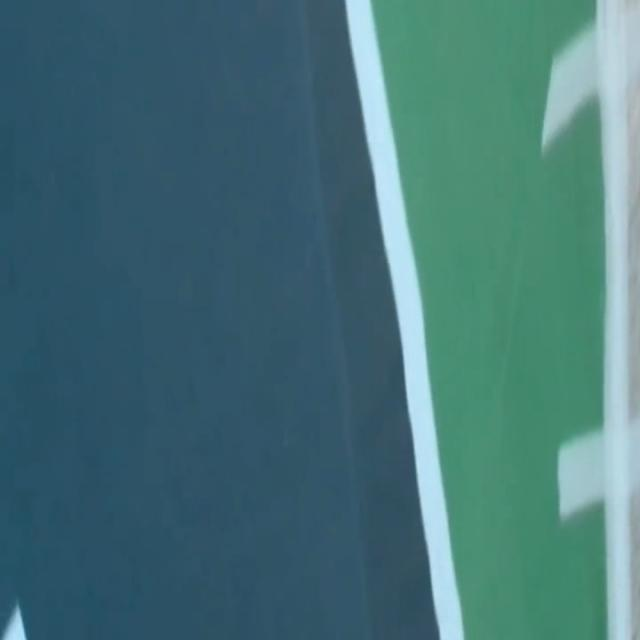center: (1, 605, 26, 639)
right: (345, 0, 464, 639)
